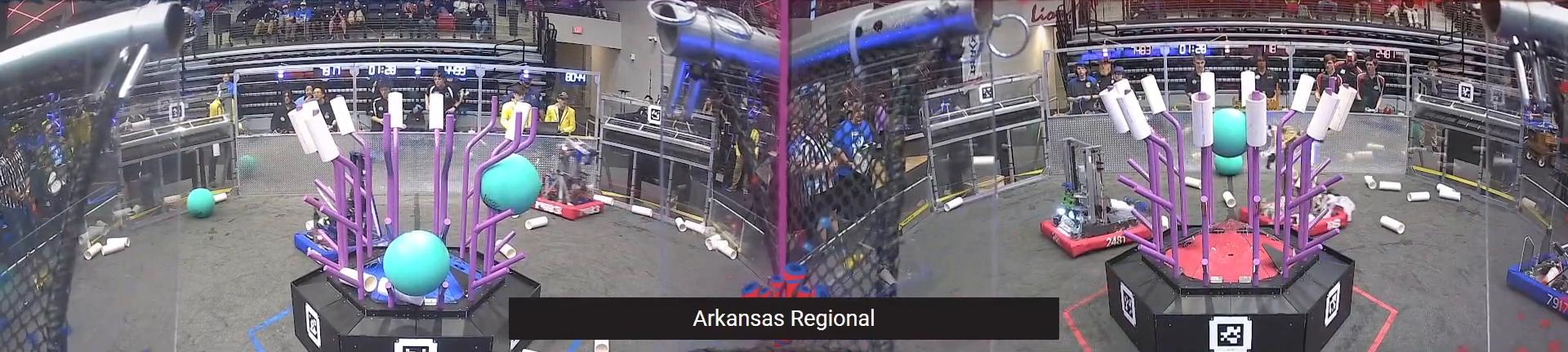coral: (1115, 89, 1152, 142), (304, 110, 339, 164), (1307, 90, 1341, 141), (1100, 85, 1130, 134), (288, 106, 318, 155), (1329, 83, 1358, 131), (1191, 92, 1214, 147), (1246, 92, 1267, 146), (1141, 75, 1167, 116), (505, 101, 531, 142), (330, 96, 355, 136), (1291, 73, 1315, 113), (1240, 71, 1256, 107), (1200, 72, 1216, 108), (388, 92, 403, 127), (430, 94, 444, 130), (1113, 78, 1132, 96), (303, 101, 321, 109)
reef: (1100, 71, 1360, 352), (293, 93, 541, 352)
robot: (1041, 135, 1162, 252), (294, 148, 392, 256), (1245, 185, 1353, 237), (539, 136, 605, 221)
